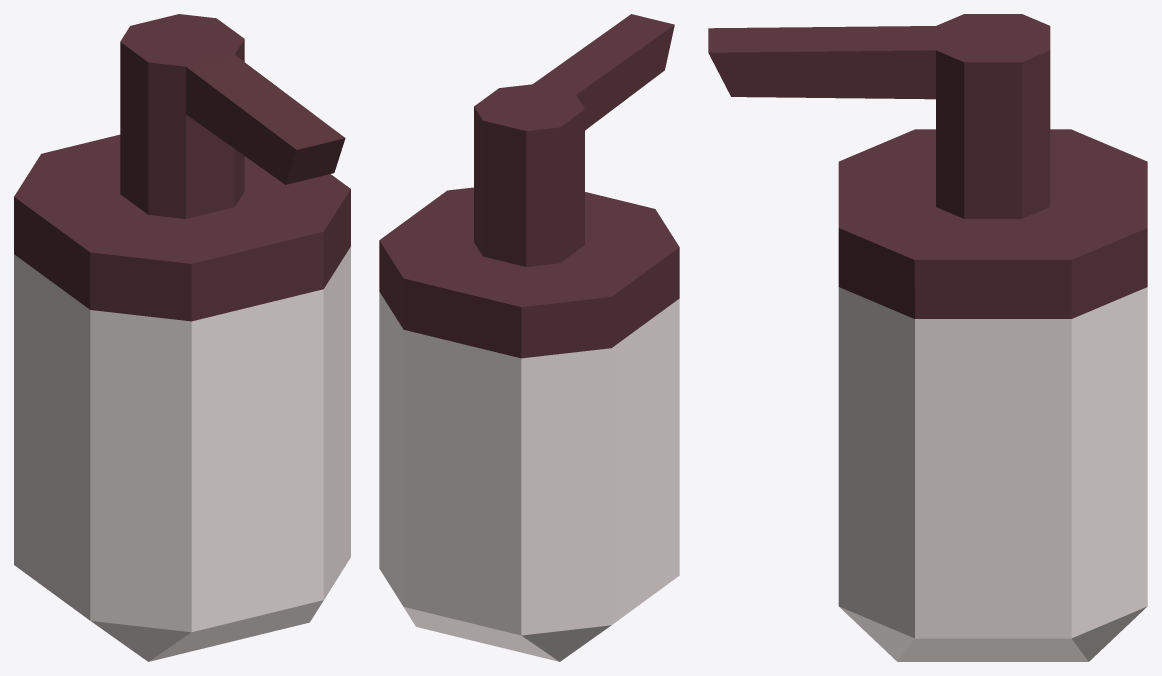
File: soap-dispenser-transparent.fbx
The picture shows the model from 3 angles, left to right: view 1: azimuth 30°, elevation 25°; view 2: azimuth 150°, elevation 25°; view 3: azimuth 270°, elevation 25°; orthographic projection. The views are drawn at different scales.
Visible parts, largest first — view 1: soap-dispenser-transparent; view 2: soap-dispenser-transparent; view 3: soap-dispenser-transparent.
Boxes of the visible parts, bbox=[...] form: soap-dispenser-transparent: bbox=[14, 14, 350, 661]; soap-dispenser-transparent: bbox=[379, 14, 679, 661]; soap-dispenser-transparent: bbox=[708, 14, 1147, 661].
Size of the model in its own units: 0.09 by 0.1874 by 0.128.
